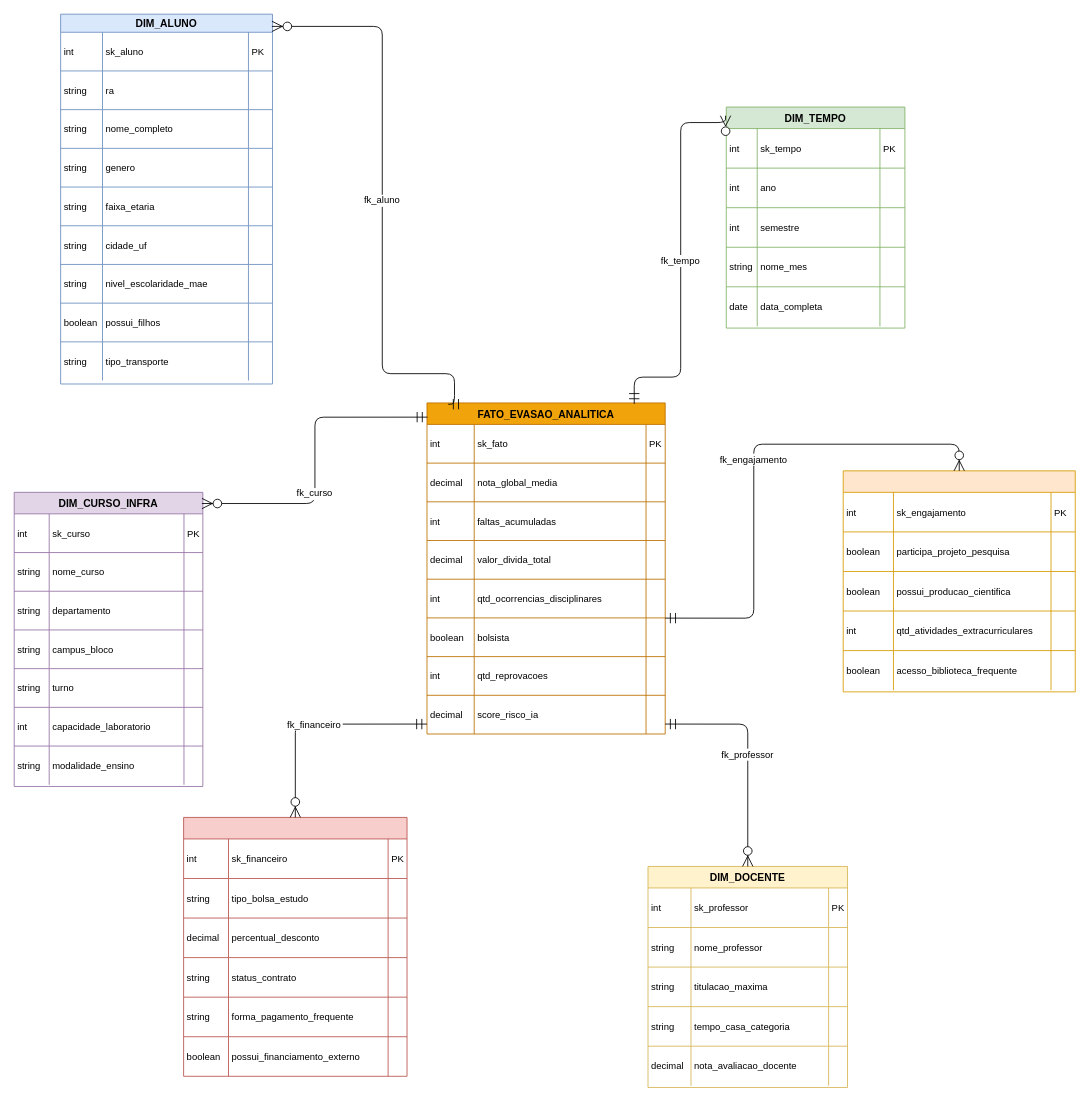
This 1090x1102 diagram has some shape labels left out. The box of each missing label's shape, as (x1, y1, x2, y2) in pixels:
DIM_ENGAJAMENTO: (842, 470, 1075, 692)
DIM_FINANCEIRO: (183, 817, 407, 1076)
